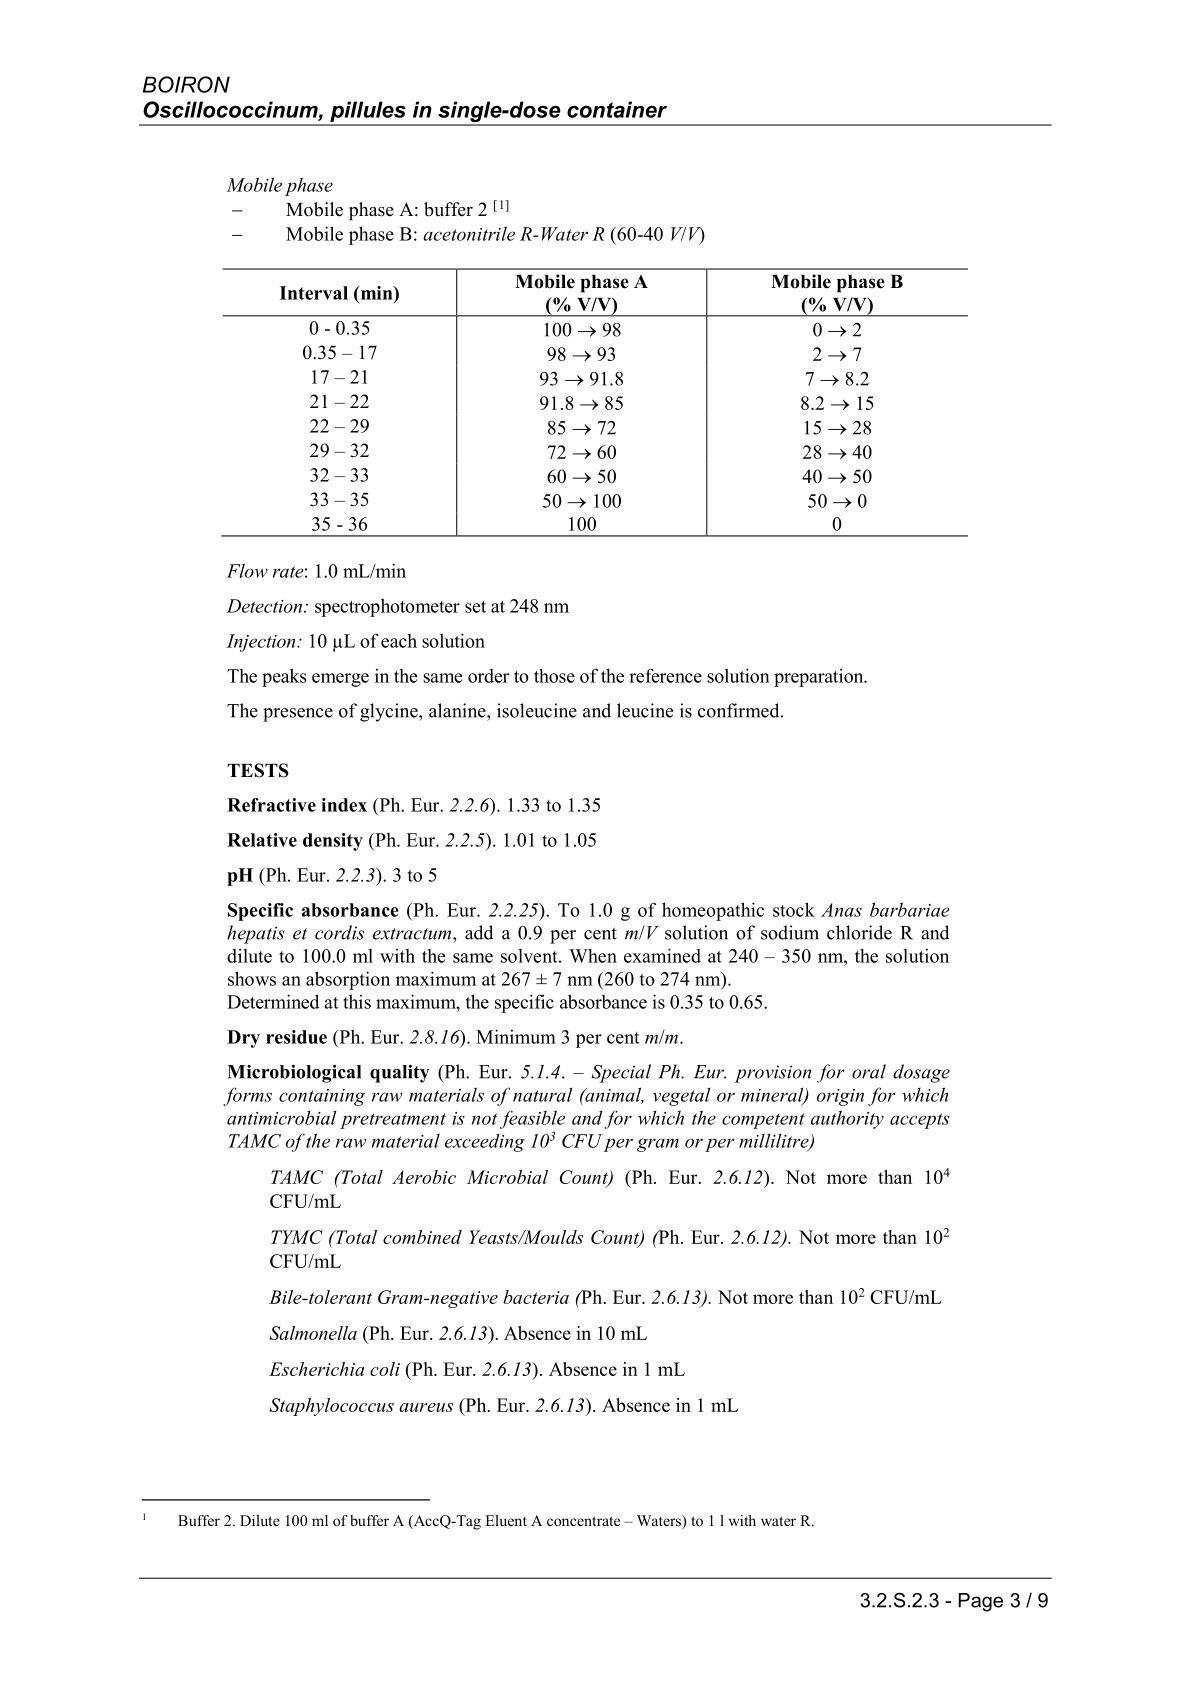partial_lined: (220, 265, 969, 539)
